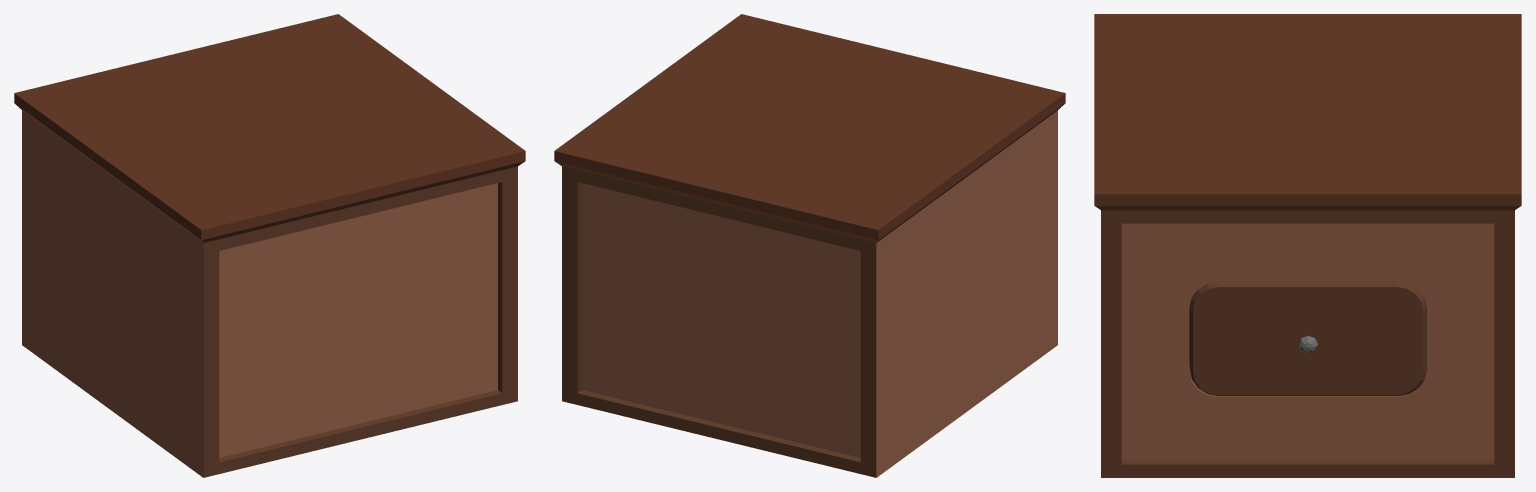
Rendered from SingleDisplay_new.fbx.
3 renders of one model, left to right at view 1: azimuth 30°, elevation 25°; view 2: azimuth 150°, elevation 25°; view 3: azimuth 270°, elevation 25°, orthographic. The views are drawn at different scales.
Visible parts, largest first — view 1: SingleDisplay.004; view 2: SingleDisplay.004; view 3: SingleDisplay.004.
Boxes of the visible parts, x1,y1,x2,y2 form: SingleDisplay.004: [14, 14, 525, 477]; SingleDisplay.004: [554, 14, 1065, 477]; SingleDisplay.004: [1094, 14, 1521, 477].
Size of the model in its own units: 98.38 by 72.77 by 98.38.
